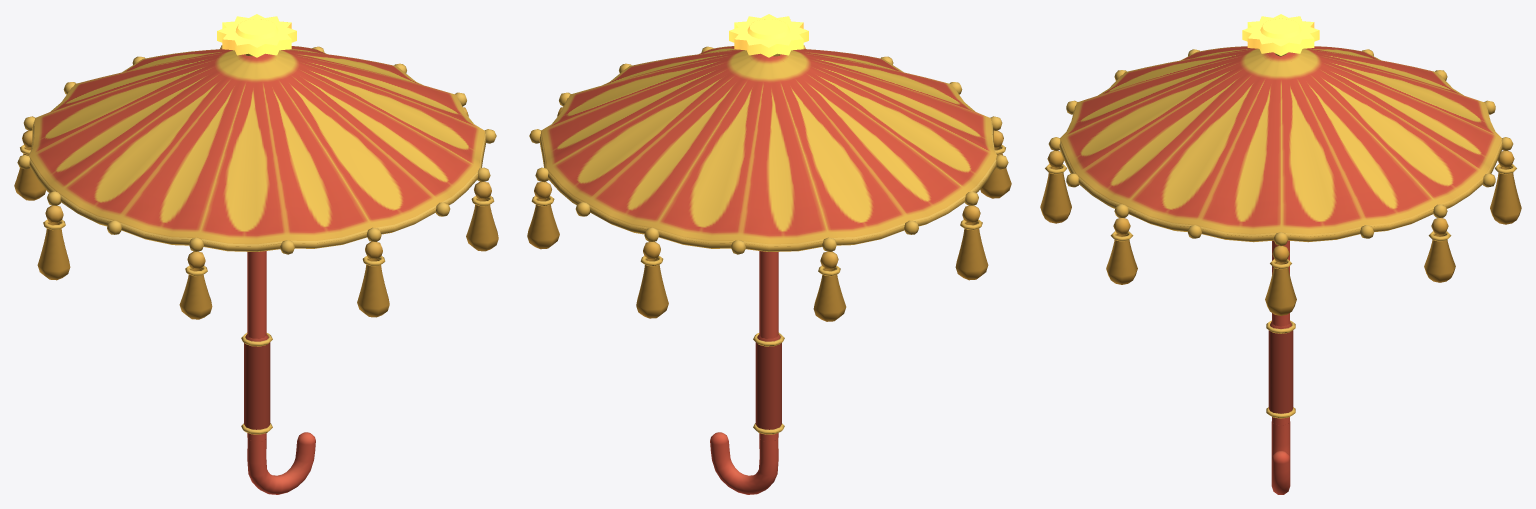
The model's file is stella-parasol.glb.
The picture shows the model from 3 angles, left to right: view 1: azimuth 30°, elevation 25°; view 2: azimuth 150°, elevation 25°; view 3: azimuth 270°, elevation 25°; orthographic projection. The views are drawn at different scales.
Visible parts, largest first — view 1: stella_parasol, sun_disc_glow, tassel_6, tassel_4, tassel_7, tassel_5, tassel_3; view 2: stella_parasol, sun_disc_glow, tassel_2, tassel_4, tassel_3, tassel_1, tassel_5; view 3: stella_parasol, sun_disc_glow, tassel_2, tassel_6, tassel_0, tassel_7, tassel_1.
Part boxes in pixels (x1,y1,x2,y2): stella_parasol: [17, 45, 496, 494]; sun_disc_glow: [217, 14, 296, 57]; tassel_6: [357, 241, 389, 317]; tassel_4: [37, 205, 70, 280]; tassel_7: [466, 181, 498, 251]; tassel_5: [179, 251, 212, 319]; tassel_3: [14, 130, 46, 200]; stella_parasol: [529, 45, 1008, 494]; sun_disc_glow: [729, 14, 808, 57]; tassel_2: [636, 241, 668, 318]; tassel_4: [955, 205, 988, 280]; tassel_3: [813, 251, 846, 321]; tassel_1: [527, 181, 559, 249]; tassel_5: [980, 130, 1011, 198]; stella_parasol: [1048, 46, 1513, 494]; sun_disc_glow: [1242, 14, 1319, 55]; tassel_2: [1490, 150, 1521, 224]; tassel_6: [1040, 150, 1071, 223]; tassel_0: [1265, 245, 1296, 315]; tassel_7: [1106, 218, 1137, 284]; tassel_1: [1424, 218, 1455, 282].
Bounding box in the file's own units: 0.8232 × 0.8565 × 0.8246.
2 materials, 1 textured.
